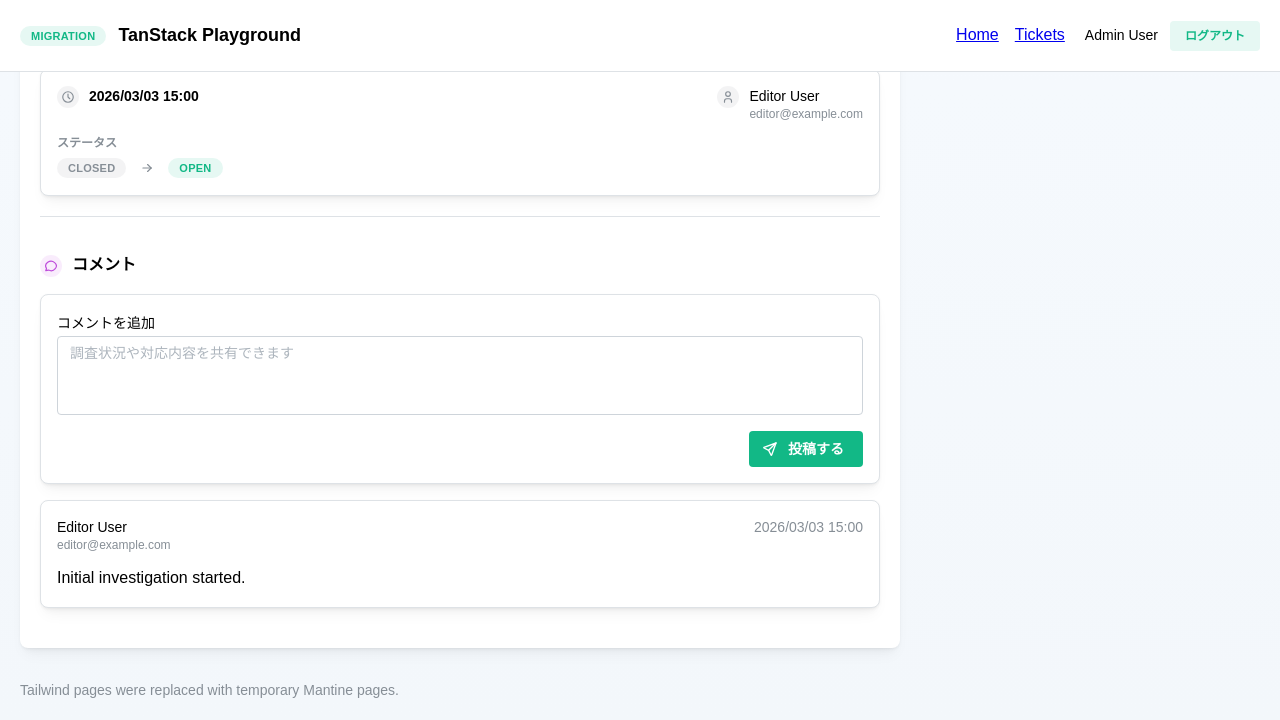
Test: ticket CRUD routes › creates a comment on the detail page and shows it first
(page scrolled)
Check: the text "Initial investigation started." is shown, box top-left (57, 569), bottom-right (246, 586)
Type "We are investigating this now." into the text box labelled "コメントを追加" at (460, 376), box top-left (57, 336), bottom-right (863, 415)
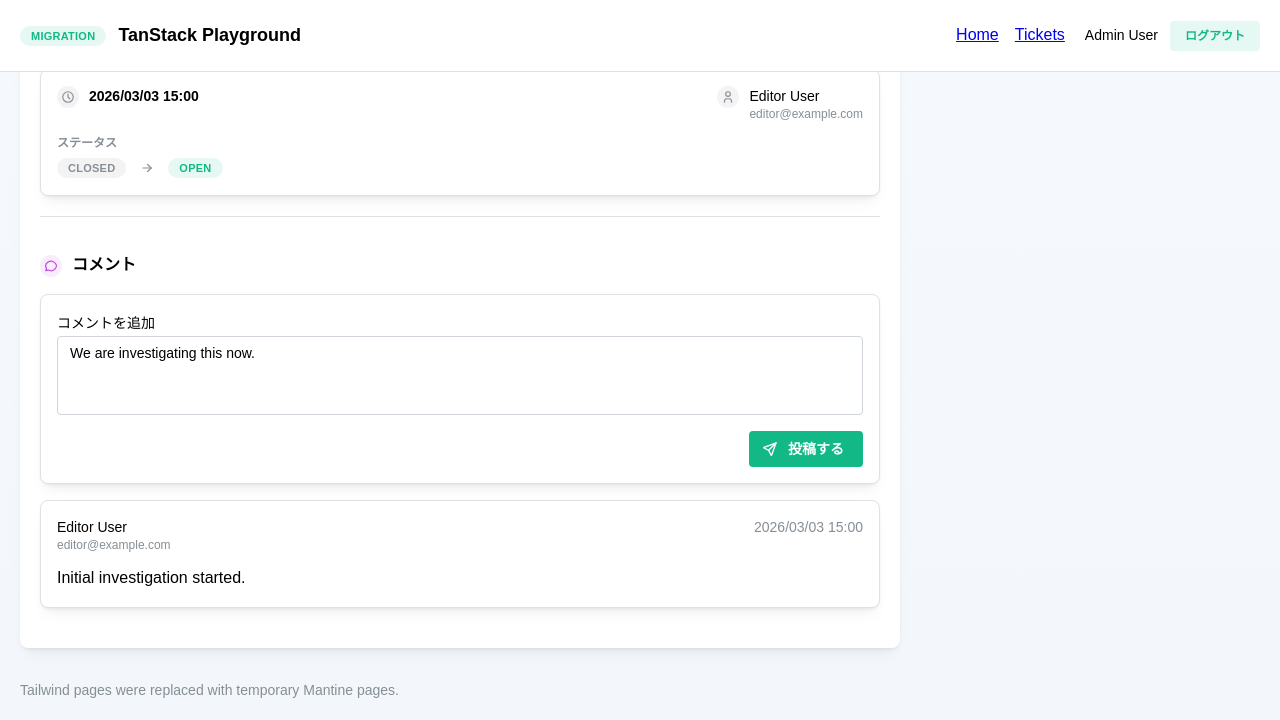
Click the button "投稿する" at (806, 449), box top-left (749, 431), bottom-right (863, 467)
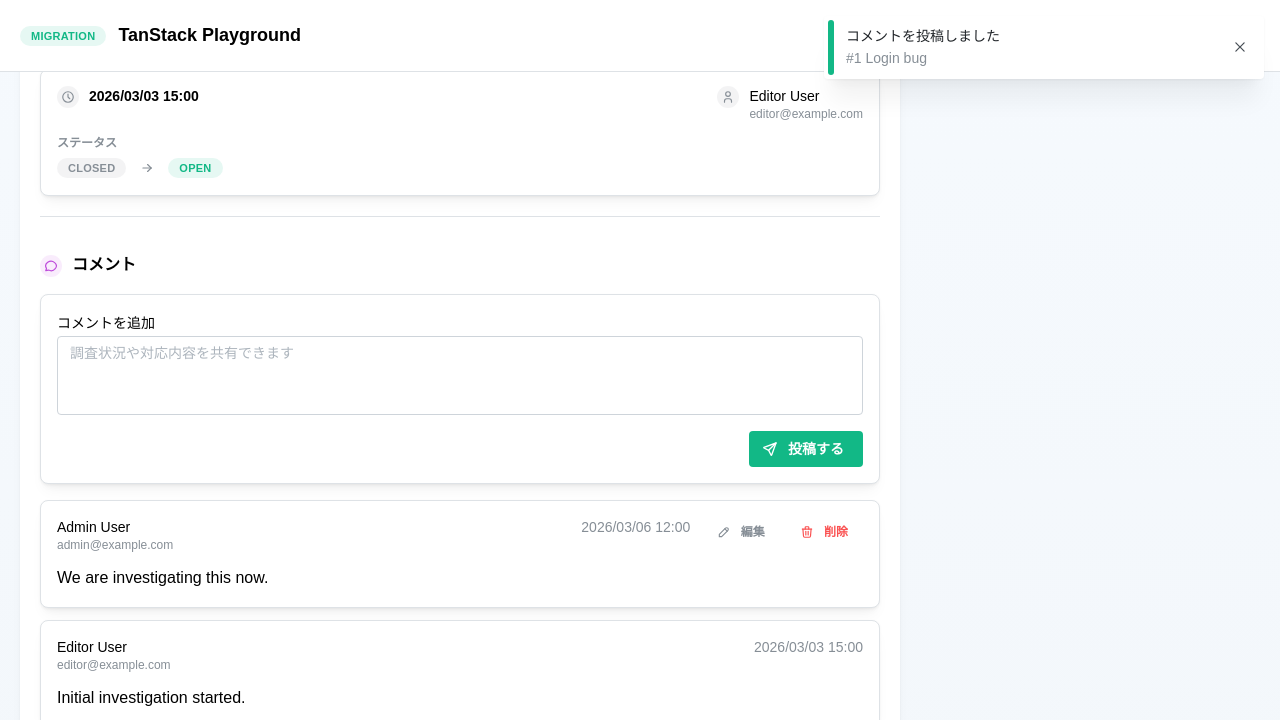
Check: the text "コメントを投稿しました" is shown, box top-left (846, 28), bottom-right (1000, 44)
Check: the text "We are investigating this now." is shown, box top-left (57, 569), bottom-right (268, 586)
